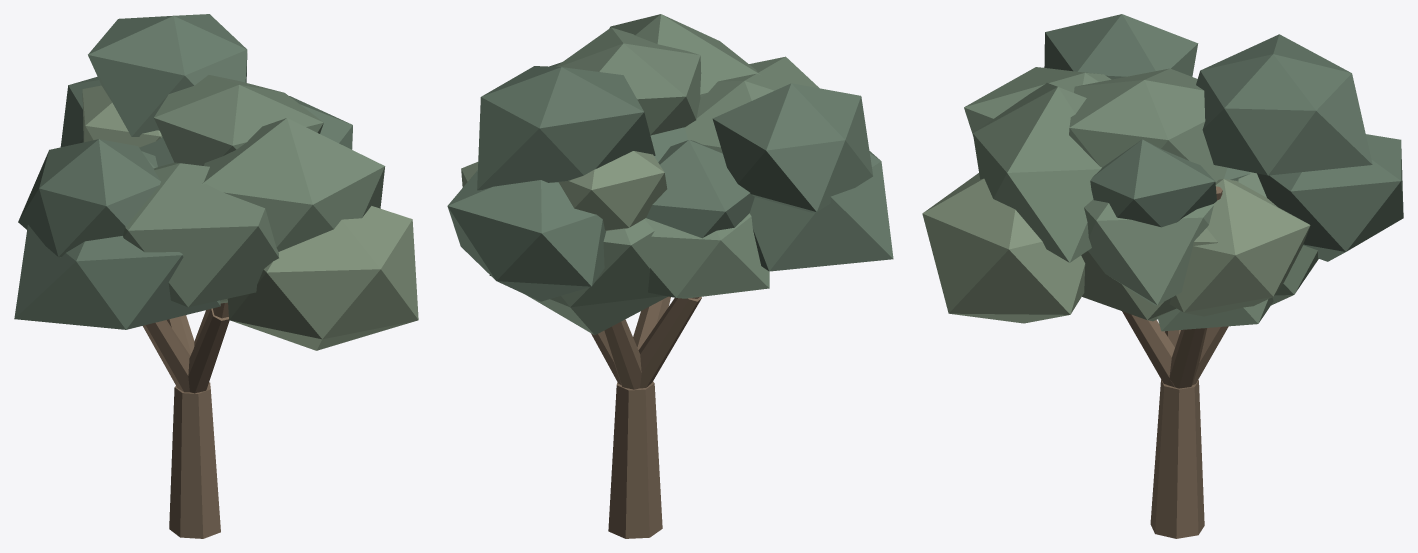
File: UtahJuniperA.glb
The picture shows the model from 3 angles, left to right: view 1: azimuth 30°, elevation 25°; view 2: azimuth 150°, elevation 25°; view 3: azimuth 270°, elevation 25°; orthographic projection. The views are drawn at different scales.
Parts seen in each view (by area): view 1: Juniper foliage pad.015, Juniper foliage pad.016, Juniper foliage pad.019, Juniper foliage pad.014, Juniper foliage pad.004, Juniper foliage pad.012, Juniper foliage pad.001, Limb, Juniper foliage pad.008, Limb.007, Limb.005, Juniper foliage pad.009 (+3 smaller); view 2: Juniper foliage pad.004, Juniper foliage pad.012, Juniper foliage pad.009, Juniper foliage pad.014, Juniper foliage pad.001, Juniper foliage pad.006, Limb, Juniper foliage pad.013, Juniper foliage pad.005, Juniper foliage pad.008, Juniper foliage pad.019, Juniper foliage pad.016 (+4 smaller); view 3: Juniper foliage pad.004, Juniper foliage pad.015, Juniper foliage pad.016, Juniper foliage pad, Juniper foliage pad.001, Juniper foliage pad.009, Juniper foliage pad.017, Juniper foliage pad.002, Juniper foliage pad.012, Limb, Juniper foliage pad.019, Juniper foliage pad.018 (+5 smaller).
Part boxes in pixels (bbox=[...]): Juniper foliage pad.015: bbox=[227, 206, 418, 350]; Juniper foliage pad.016: bbox=[201, 118, 385, 251]; Juniper foliage pad.019: bbox=[123, 162, 278, 307]; Juniper foliage pad.014: bbox=[14, 225, 220, 329]; Juniper foliage pad.004: bbox=[88, 14, 247, 136]; Juniper foliage pad.012: bbox=[18, 139, 160, 257]; Juniper foliage pad.001: bbox=[154, 75, 323, 165]; Limb: bbox=[169, 382, 220, 538]; Juniper foliage pad.008: bbox=[82, 85, 162, 147]; Limb.007: bbox=[188, 308, 229, 393]; Limb.005: bbox=[143, 320, 190, 392]; Juniper foliage pad.009: bbox=[60, 76, 101, 147]; Juniper foliage pad.004: bbox=[477, 66, 655, 190]; Juniper foliage pad.012: bbox=[712, 83, 872, 212]; Juniper foliage pad.009: bbox=[447, 170, 606, 301]; Juniper foliage pad.014: bbox=[749, 151, 893, 271]; Juniper foliage pad.001: bbox=[556, 27, 701, 135]; Juniper foliage pad.006: bbox=[644, 213, 769, 298]; Limb: bbox=[608, 381, 662, 538]; Juniper foliage pad.013: bbox=[646, 140, 754, 238]; Juniper foliage pad.005: bbox=[525, 219, 667, 335]; Juniper foliage pad.008: bbox=[559, 151, 667, 230]; Juniper foliage pad.019: bbox=[685, 56, 819, 152]; Juniper foliage pad.016: bbox=[609, 14, 760, 97]; Juniper foliage pad.004: bbox=[1196, 34, 1372, 175]; Juniper foliage pad.015: bbox=[922, 173, 1085, 323]; Juniper foliage pad.016: bbox=[973, 83, 1101, 262]; Juniper foliage pad: bbox=[1169, 179, 1310, 316]; Juniper foliage pad.001: bbox=[1069, 68, 1227, 182]; Juniper foliage pad.009: bbox=[1257, 134, 1403, 261]; Juniper foliage pad.017: bbox=[1084, 199, 1213, 305]; Juniper foliage pad.002: bbox=[1090, 139, 1216, 227]; Juniper foliage pad.012: bbox=[1044, 14, 1198, 79]; Limb: bbox=[1150, 379, 1204, 538]; Juniper foliage pad.019: bbox=[964, 67, 1111, 135]; Juniper foliage pad.018: bbox=[1081, 228, 1217, 321].
Bounding box in the file's own units: 3.14 × 3.86 × 3.46.
